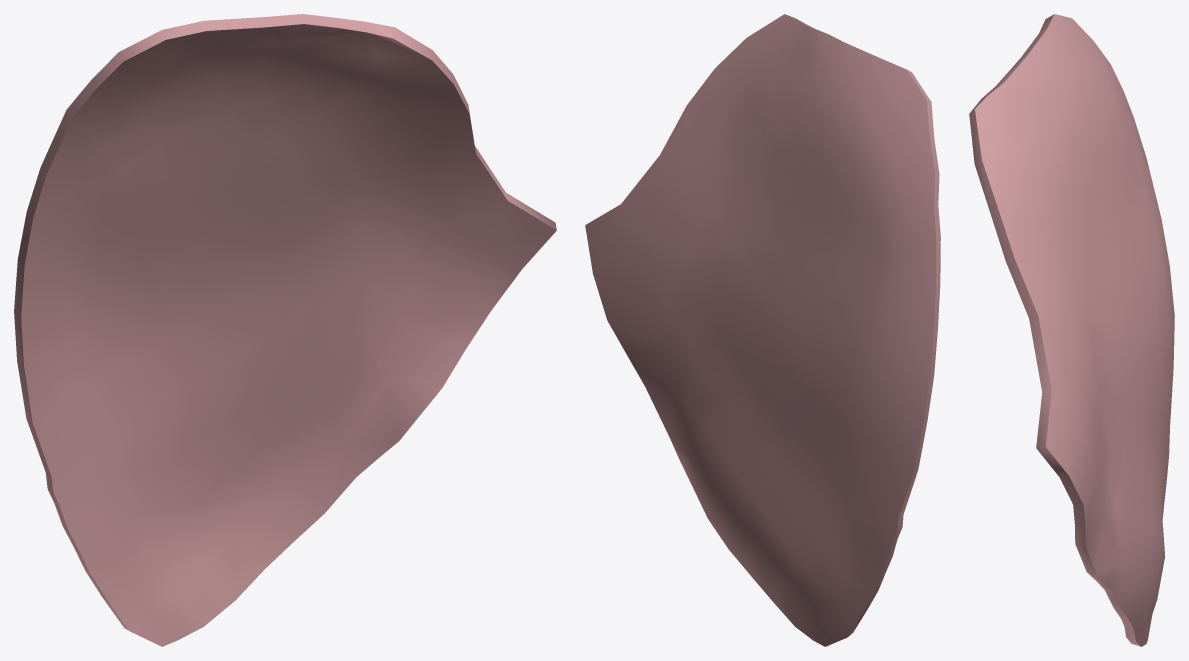
The picture shows the model from 3 angles, left to right: view 1: azimuth 30°, elevation 25°; view 2: azimuth 150°, elevation 25°; view 3: azimuth 270°, elevation 25°; orthographic projection. The views are drawn at different scales.
Parts seen in each view (by area): view 1: ZA_b0936d690e4fcc26; view 2: ZA_b0936d690e4fcc26; view 3: ZA_b0936d690e4fcc26.
Boxes of the visible parts, x1,y1,x2,y2 form: ZA_b0936d690e4fcc26: [14, 14, 556, 646]; ZA_b0936d690e4fcc26: [585, 14, 940, 646]; ZA_b0936d690e4fcc26: [969, 14, 1174, 646].
Size of the model in its own units: 0.1386 by 0.1847 by 0.0566.
